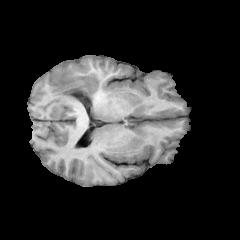glioma: (49, 72, 141, 103)
